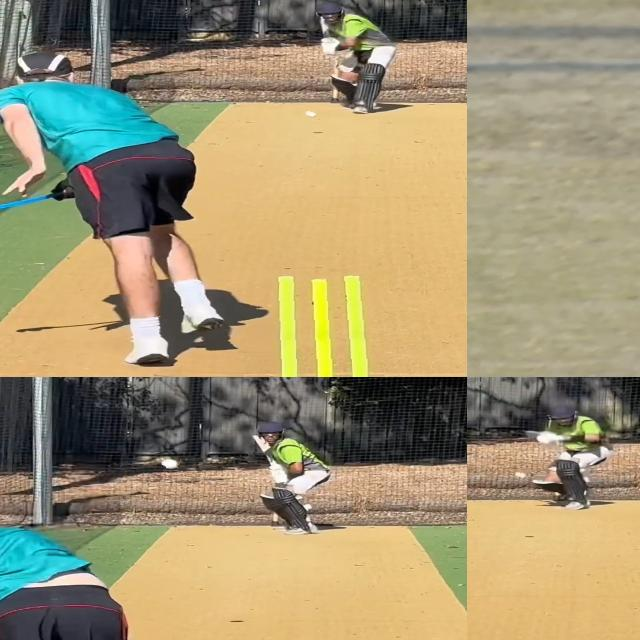Cricket ball: (159, 457, 180, 470), (304, 110, 318, 118), (514, 470, 527, 478)
Stumps: (256, 272, 384, 377)
